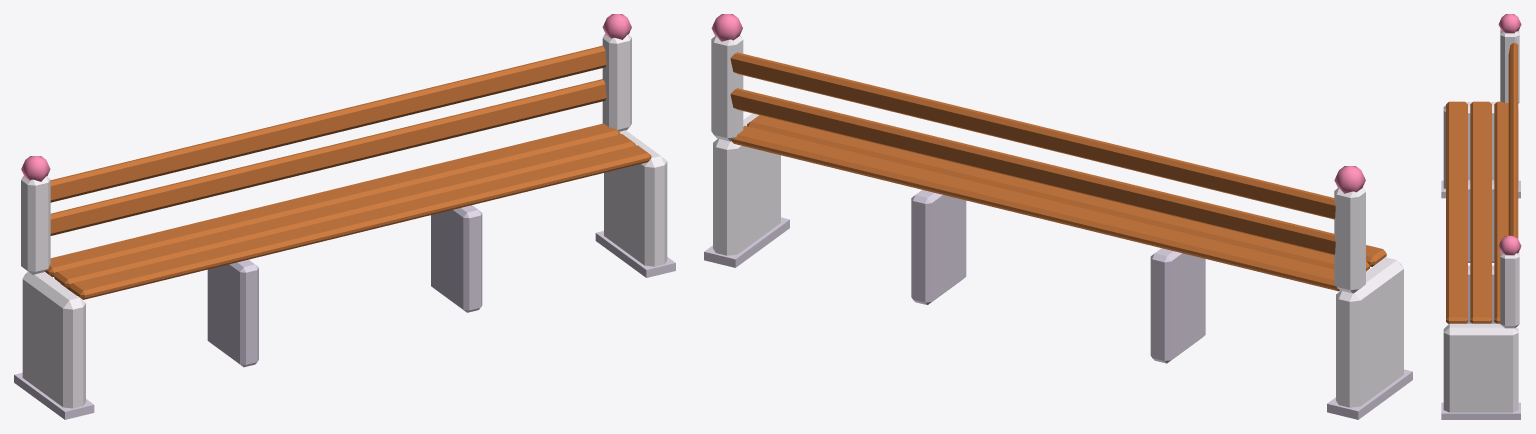
The model's file is park-bench-long.fbx.
3 views of the same model, side by side, from view 1: azimuth 30°, elevation 25°; view 2: azimuth 150°, elevation 25°; view 3: azimuth 270°, elevation 25° (orthographic). The views are drawn at different scales.
Visible parts, largest first — view 1: Park_BenchLong; view 2: Park_BenchLong; view 3: Park_BenchLong.
Boxes of the visible parts, left/top/right/bottom form: Park_BenchLong: left=14, top=14, right=675, bottom=419; Park_BenchLong: left=704, top=14, right=1412, bottom=419; Park_BenchLong: left=1441, top=14, right=1521, bottom=419.
Size of the model in its own units: 957 by 342 by 139.
1 material, 1 textured.
